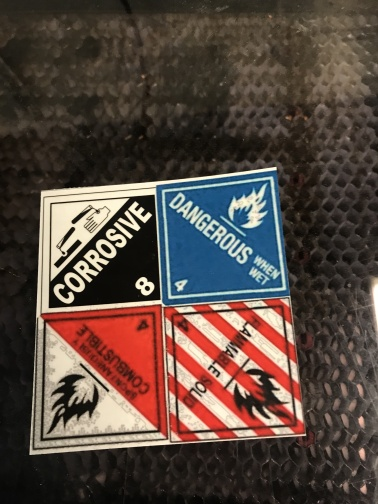Corrosive: (42, 187, 165, 312)
DangerousWhenWet: (156, 171, 289, 303)
FlammableSolid: (162, 299, 305, 437)
SpontaneouslyCombustible: (37, 303, 171, 447)
